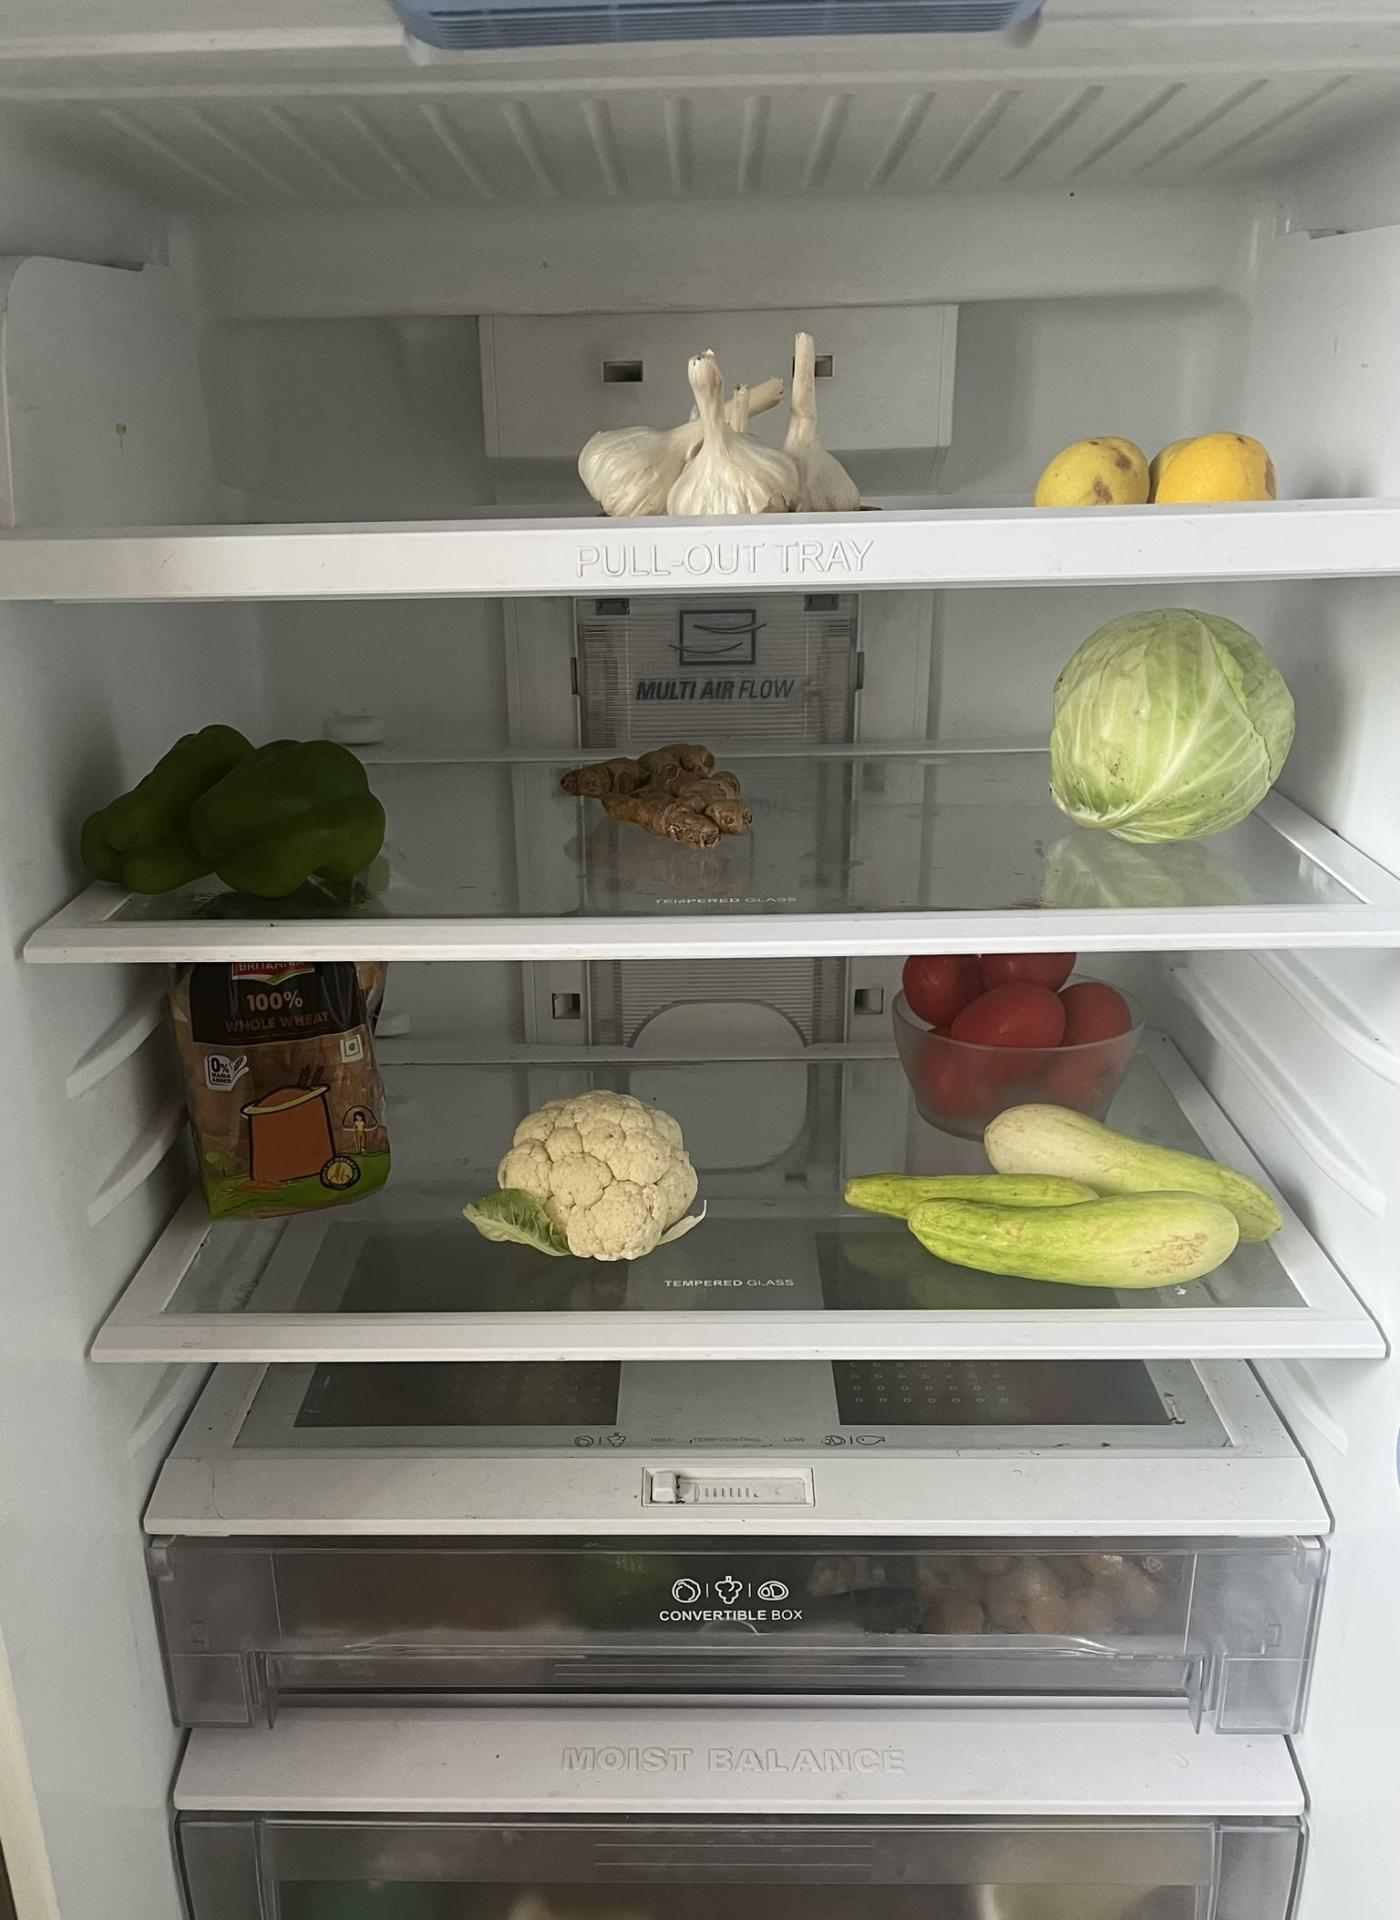bread: (179, 966, 404, 1225)
cabbage: (1033, 593, 1312, 847)
capsicum: (76, 721, 398, 906)
cauliflower: (474, 1075, 714, 1272)
cucumber: (823, 1094, 1303, 1294)
garlic: (559, 322, 881, 519)
ginger: (556, 729, 778, 863)
lemon: (1021, 419, 1300, 504)
tomato: (899, 950, 1133, 1112)
